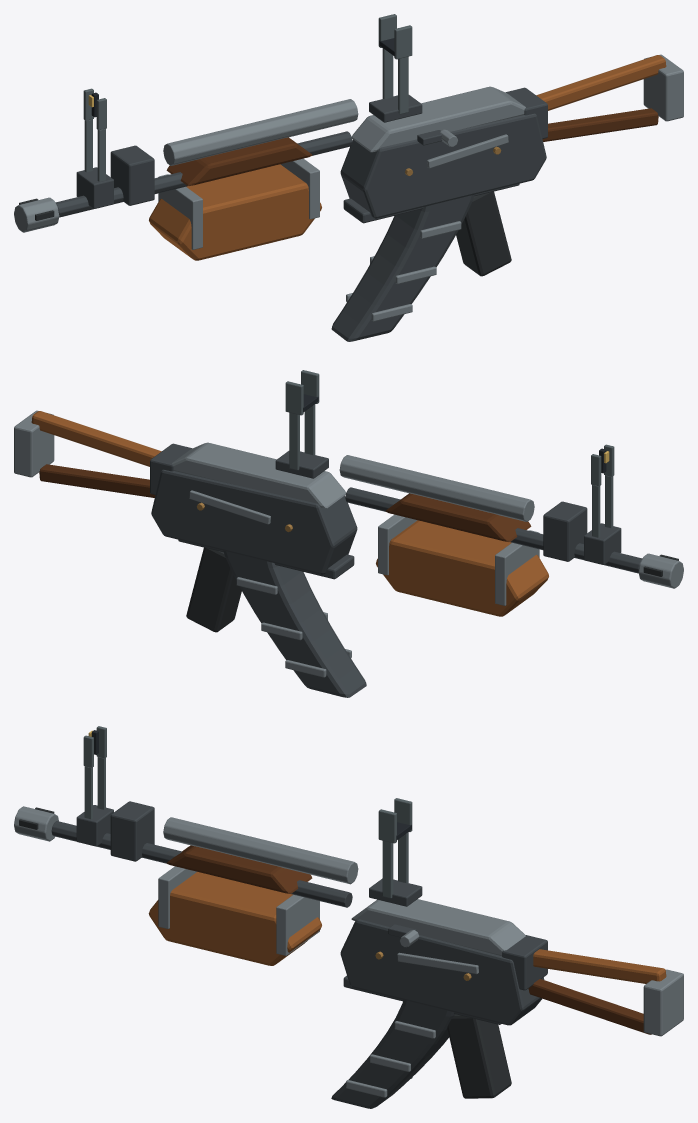
Rendered from ak47-viewmodel.glb.
3 views of the same model, one above another, from view 1: azimuth 30°, elevation 25°; view 2: azimuth 150°, elevation 25°; view 3: azimuth 330°, elevation 25° (orthographic).
Parts seen in each view (by area): view 1: Stamped receiver, Lower wood handguard, Curved steel magazine, Faceted top cover, Gas tube, Upper wood handguard, Pistol grip, Stock upper strut, Gas block, Stock lower strut, Barrel, Skeleton butt (+11 smaller); view 2: Stamped receiver, Lower wood handguard, Curved steel magazine, Faceted top cover, Gas tube, Upper wood handguard, Pistol grip, Stock upper strut, Gas block, Stock lower strut, Barrel, Skeleton butt (+11 smaller); view 3: Stamped receiver, Lower wood handguard, Curved steel magazine, Faceted top cover, Gas tube, Pistol grip, Upper wood handguard, Stock upper strut, Skeleton butt, Gas block, Stock lower strut, Barrel (+9 smaller).
Part boxes in pixels (x1,y1,x2,y2): Stamped receiver: (340,113,546,218); Lower wood handguard: (149,164,321,260); Curved steel magazine: (331,194,474,341); Faceted top cover: (352,86,525,152); Gas tube: (163,99,358,165); Upper wood handguard: (166,137,312,185); Pistol grip: (456,191,511,276); Stock upper strut: (536,55,666,110); Gas block: (110,145,154,205); Stock lower strut: (542,108,658,141); Barrel: (55,131,352,217); Skeleton butt: (643,54,683,121); Stamped receiver: (151,469,357,574); Lower wood handguard: (376,520,548,616); Curved steel magazine: (223,550,366,697); Faceted top cover: (172,442,345,508); Gas tube: (339,455,534,521); Upper wood handguard: (385,493,531,541); Pistol grip: (186,547,241,632); Stock upper strut: (31,411,161,466); Gas block: (543,501,587,561); Stock lower strut: (39,464,155,497); Barrel: (345,487,642,573); Skeleton butt: (14,410,54,477); Stamped receiver: (340,919,544,1025); Lower wood handguard: (148,872,321,965); Curved steel magazine: (331,1000,455,1108); Faceted top cover: (351,899,525,955); Gas tube: (163,817,358,884); Pistol grip: (447,1014,511,1098); Upper wood handguard: (166,845,312,893); Stock upper strut: (533,949,666,983); Skeleton butt: (643,969,683,1036); Gas block: (110,801,154,861); Stock lower strut: (528,979,651,1034); Barrel: (51,821,352,907).
Bounding box in the file's own units: 2.44 × 1.08 × 0.2695.
